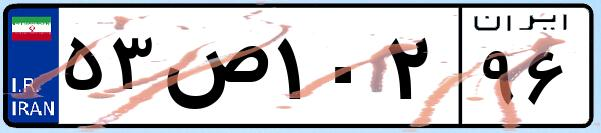0: (330, 28, 385, 110)
1: (270, 28, 330, 110)
2: (385, 28, 445, 110)
3: (110, 28, 158, 98)
5: (57, 26, 110, 100)
6: (525, 38, 570, 115)
9: (475, 38, 525, 113)
ص: (158, 20, 270, 120)
